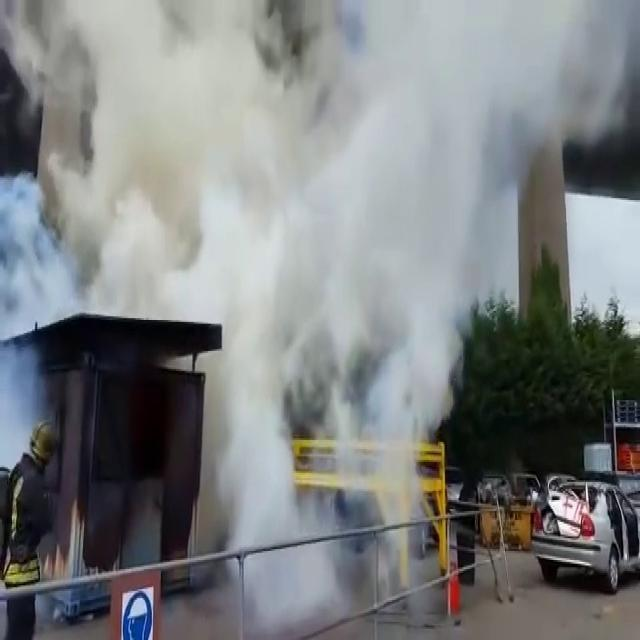Smoke: (107, 0, 638, 375), (218, 388, 344, 612), (1, 200, 67, 349)
